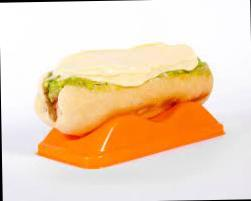Completos: (21, 33, 220, 127)
